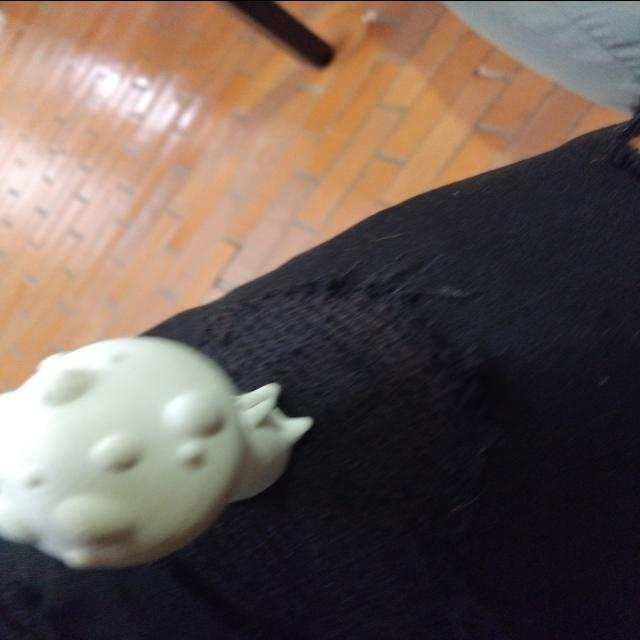Hongo: (0, 330, 321, 580)
